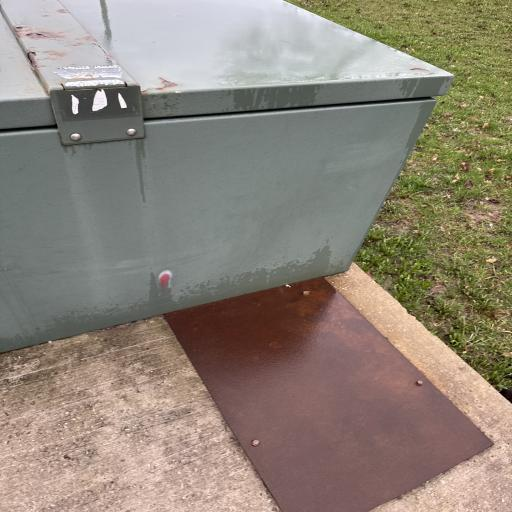Electrical Box: (0, 0, 453, 354)
